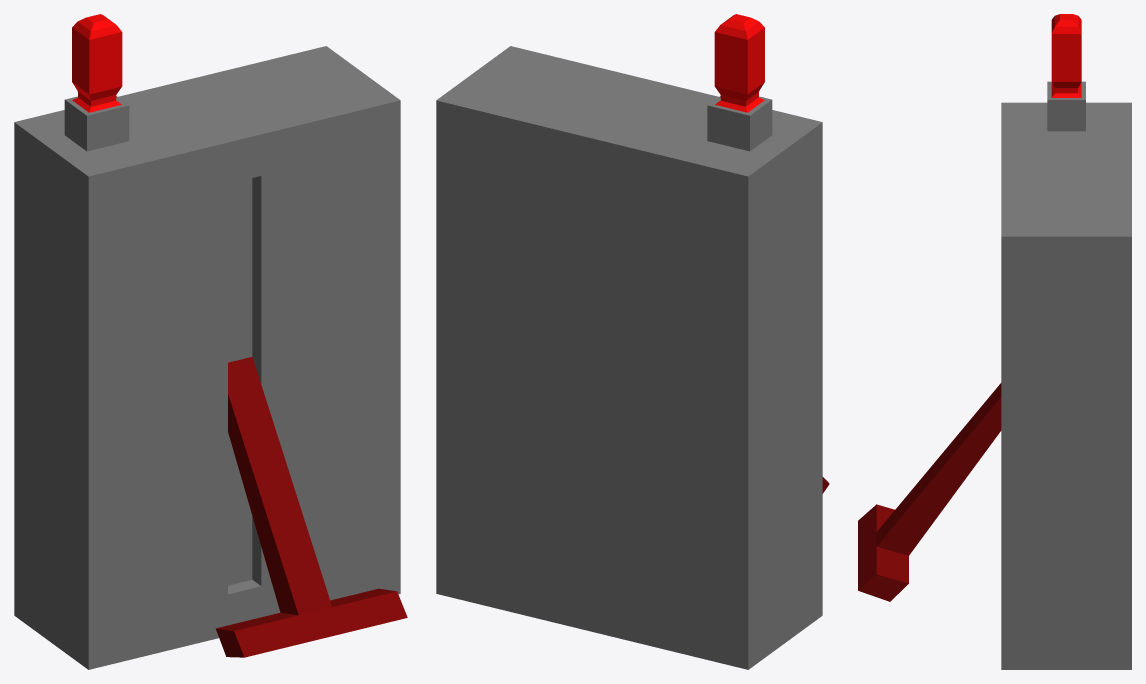
The model's file is switch_on.glb.
The picture shows the model from 3 angles, left to right: view 1: azimuth 30°, elevation 25°; view 2: azimuth 150°, elevation 25°; view 3: azimuth 270°, elevation 25°; orthographic projection. The views are drawn at different scales.
Parts seen in each view (by area): view 1: switch_on; view 2: switch_on; view 3: switch_on.
Boxes of the visible parts, box(x1,y1,x2,y2) form: switch_on: box(14, 14, 407, 669); switch_on: box(436, 14, 829, 669); switch_on: box(858, 14, 1131, 669).
Bounding box in the file's own units: 0.507 × 0.9513 × 0.4385.
1 material, 1 textured.
